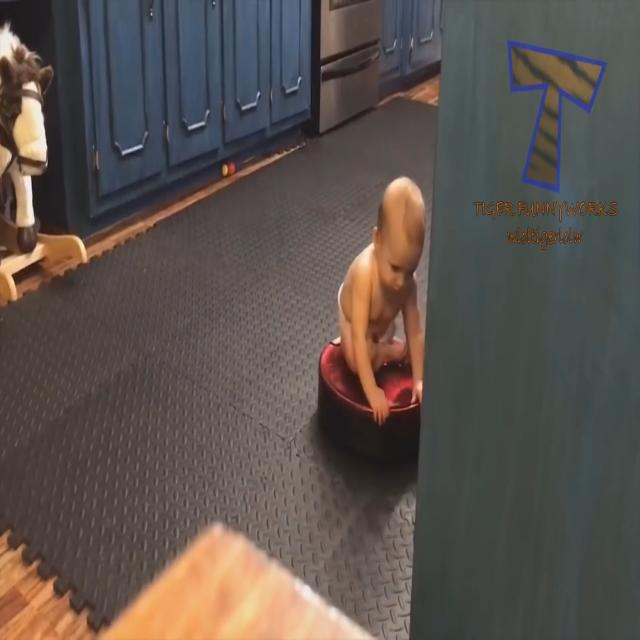safe: (348, 181, 423, 385)
